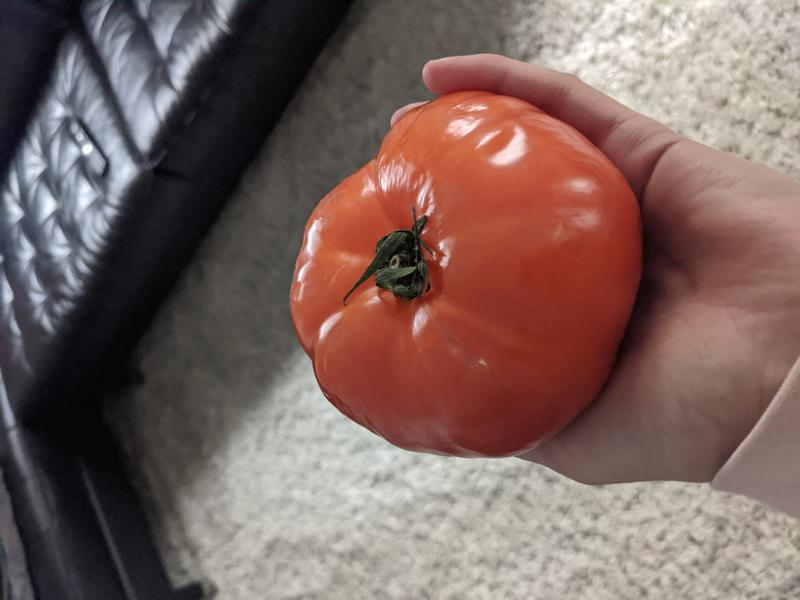tomato: (289, 89, 644, 460)
